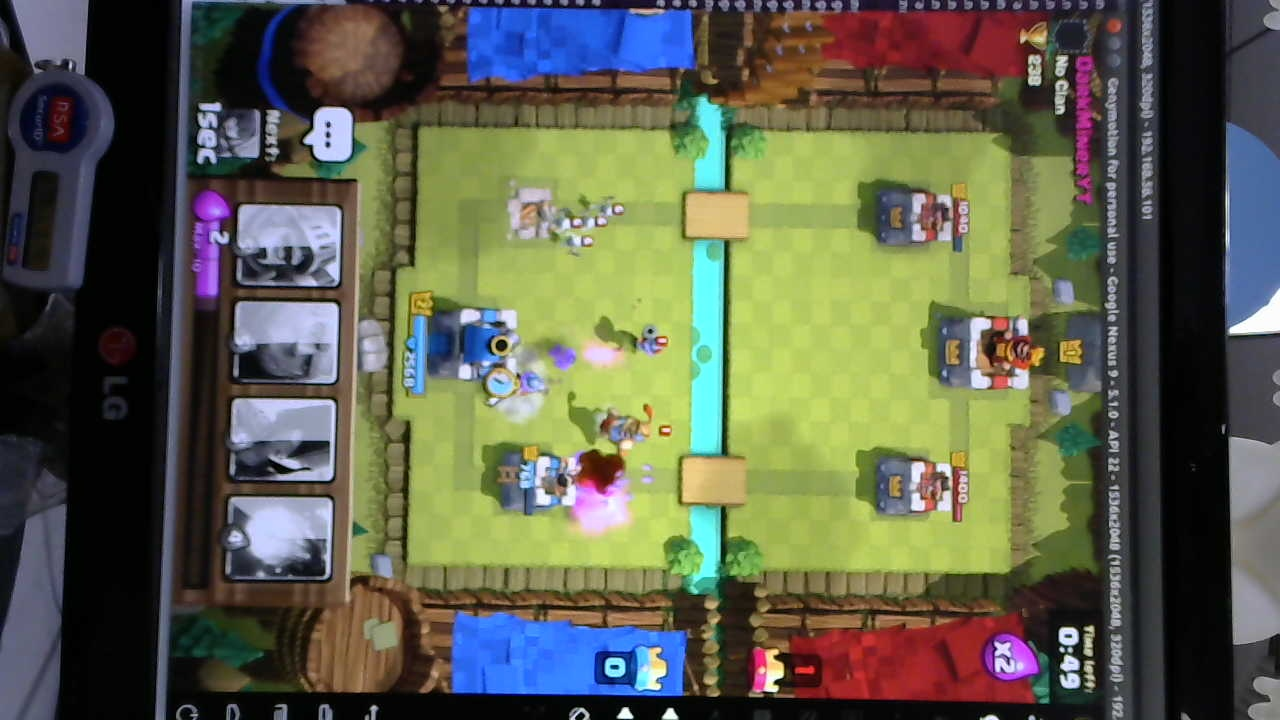arena: (503, 451, 582, 514)
darena: (507, 185, 562, 245)
earena: (873, 454, 954, 518), (883, 189, 954, 246)
eking: (934, 311, 1036, 393)
king: (430, 305, 517, 379)
musketeer: (631, 322, 668, 359), (510, 369, 548, 399)
prince: (598, 405, 655, 453)
skeleton: (565, 201, 626, 252)
